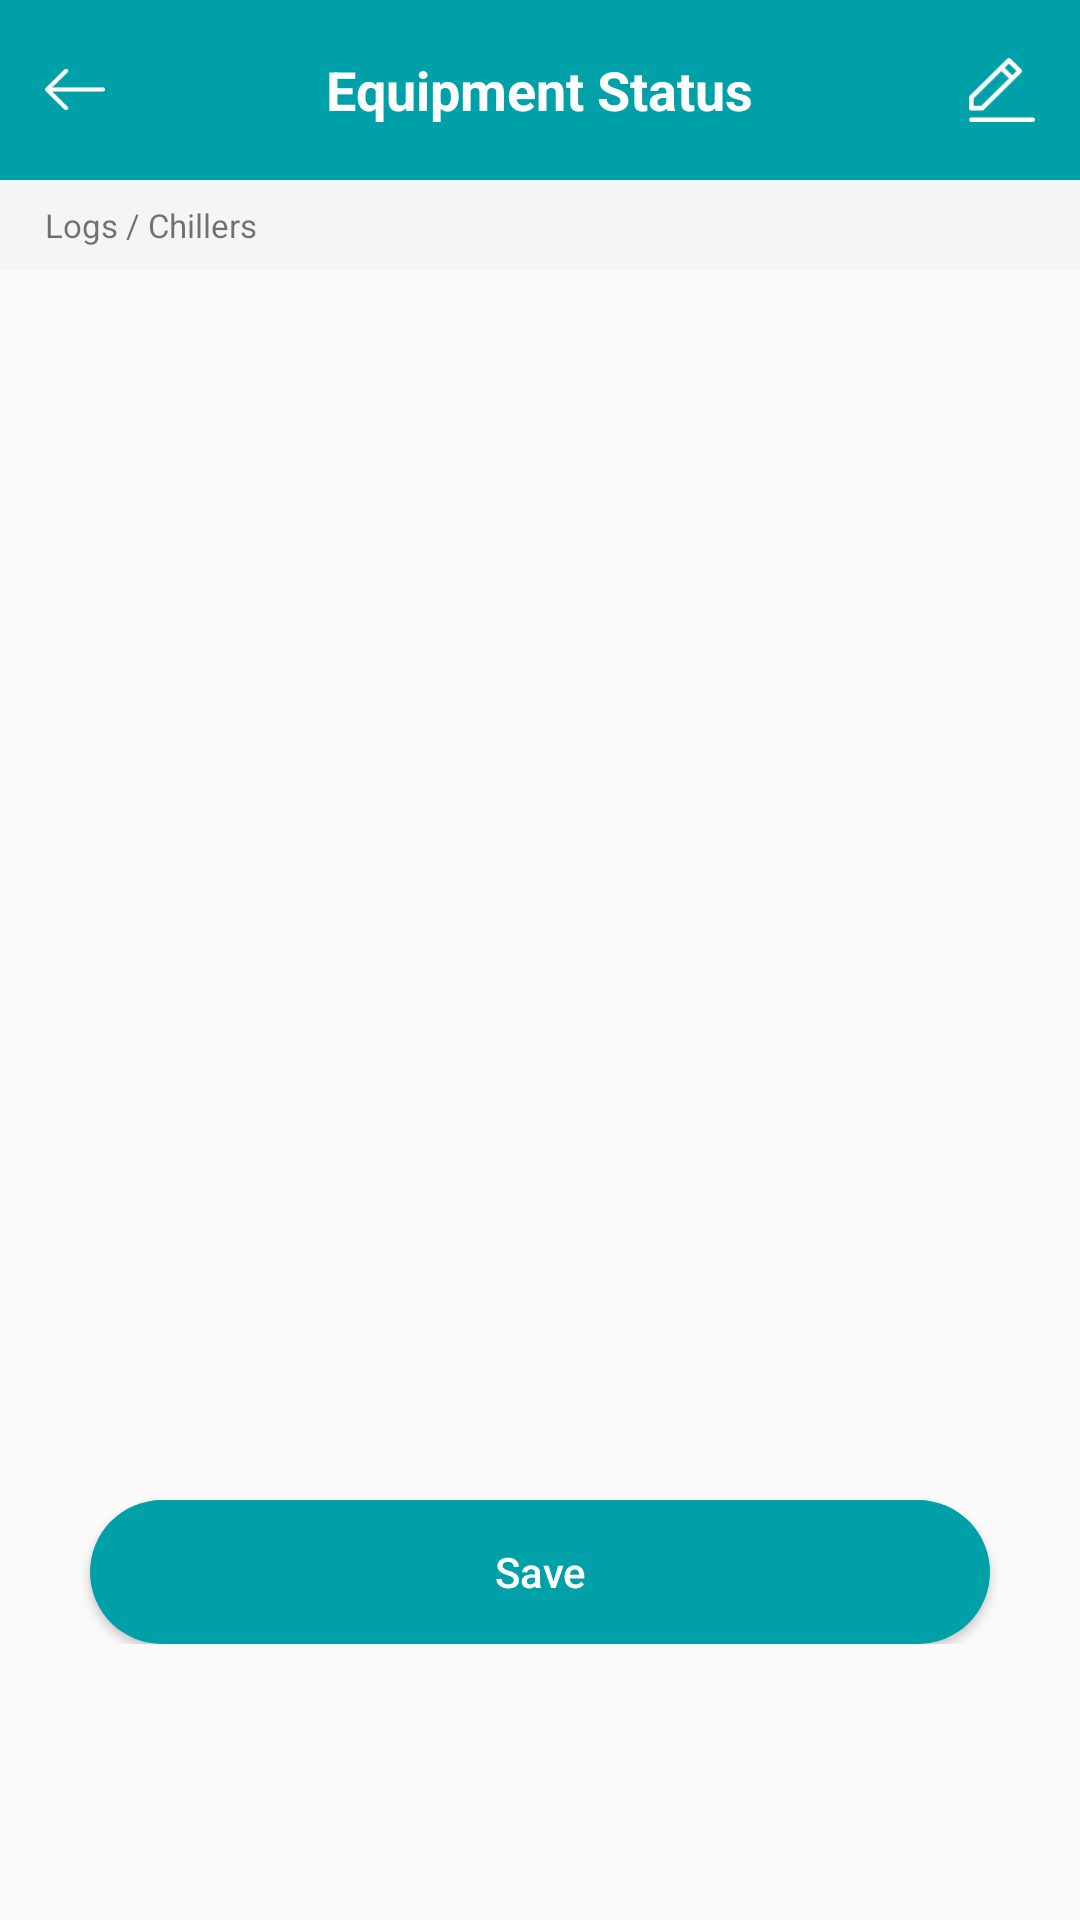

Icon click points for this 1080px x 1920px phone screenshot, format (x=x, y=y):
back: (x=75, y=89)
edit: (x=1002, y=90)
